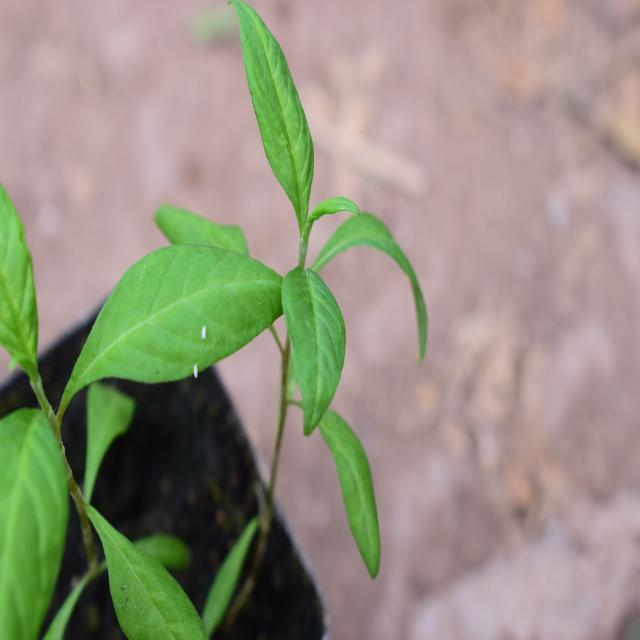white_smart_weed: (68, 17, 423, 600)
